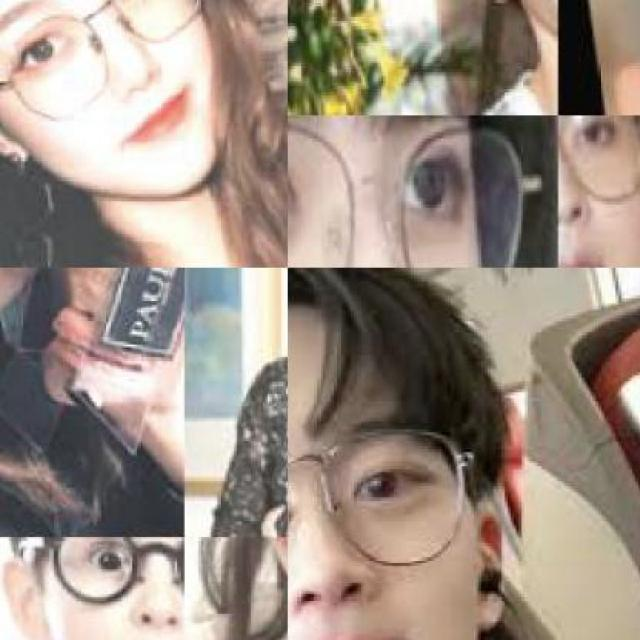glasses: (288, 116, 554, 266), (288, 417, 473, 566), (0, 0, 219, 114), (18, 538, 185, 609), (561, 114, 640, 208)
